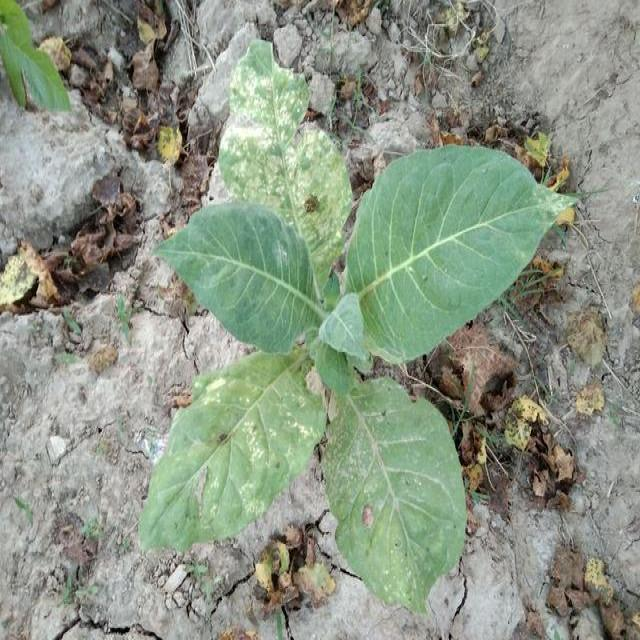crop: (147, 44, 564, 614)
